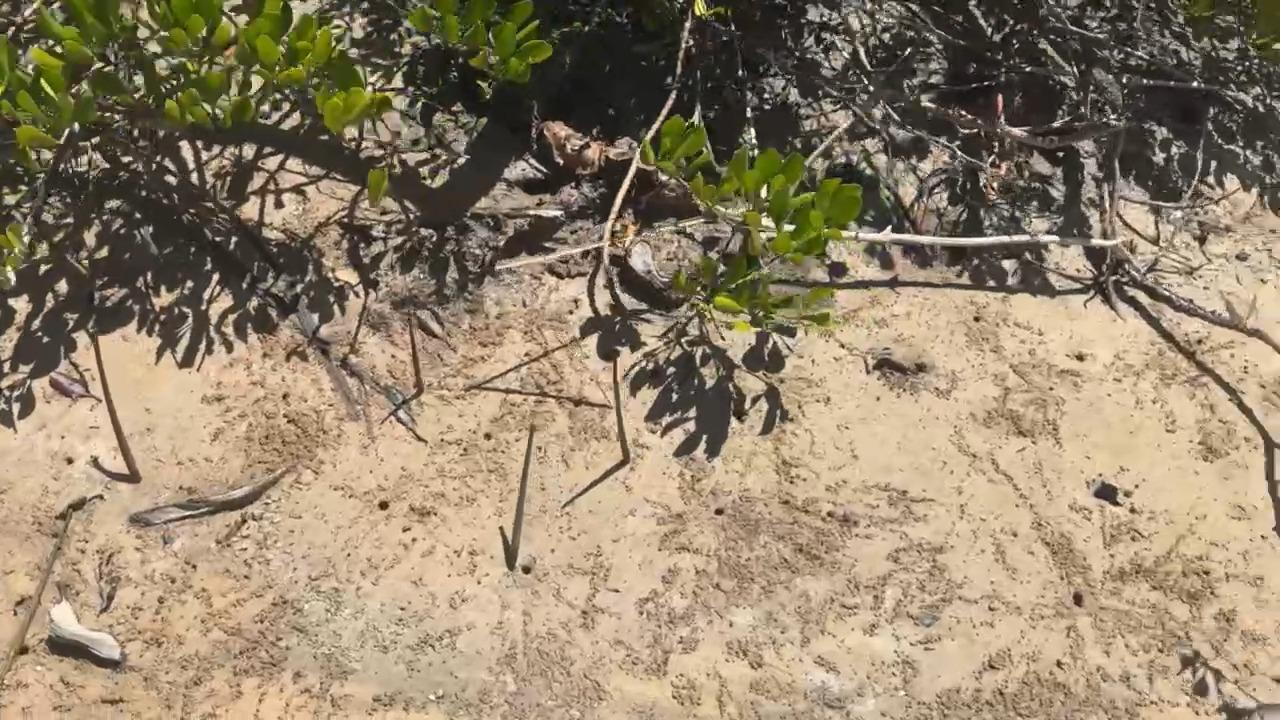Tree: (91, 328, 143, 485), (532, 327, 614, 409), (504, 423, 534, 573), (611, 343, 633, 466), (407, 310, 425, 394)
